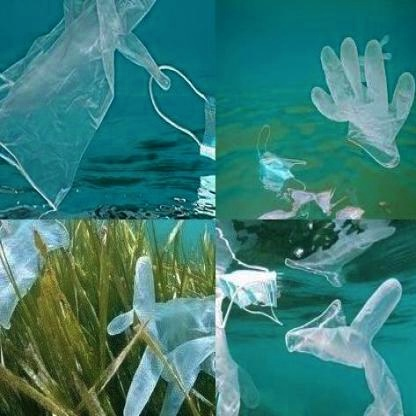Mask: (0, 0, 191, 213), (245, 117, 313, 200), (216, 260, 282, 330)
glove: (283, 275, 409, 415), (107, 253, 215, 415), (311, 25, 415, 172), (0, 220, 74, 354), (216, 307, 260, 415), (346, 32, 401, 90)
